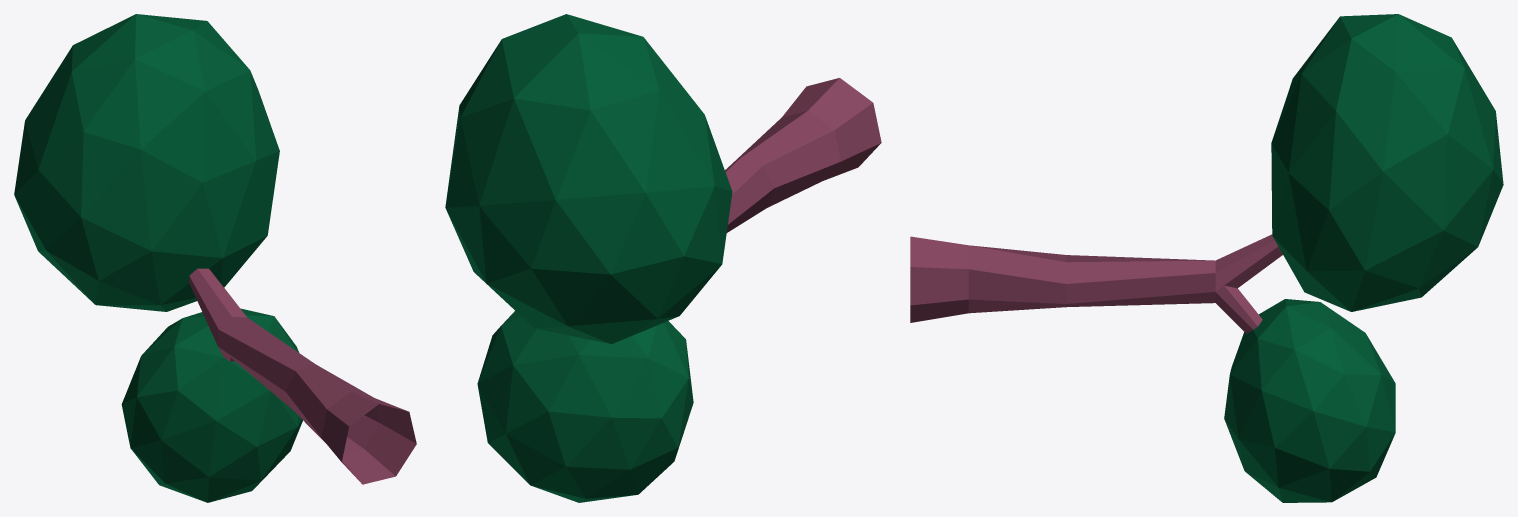
The model's file is Tree_2.fbx.
The picture shows the model from 3 angles, left to right: view 1: azimuth 30°, elevation 25°; view 2: azimuth 150°, elevation 25°; view 3: azimuth 270°, elevation 25°; orthographic projection. The views are drawn at different scales.
Parts seen in each view (by area): view 1: Tree_2.001; view 2: Tree_2.001; view 3: Tree_2.001.
Boxes of the visible parts, box(x1,y1,x2,y2) form: Tree_2.001: box(14, 14, 416, 502); Tree_2.001: box(445, 14, 881, 502); Tree_2.001: box(910, 14, 1503, 502).
Size of the model in its own units: 2.57 by 4.9 by 5.65.
